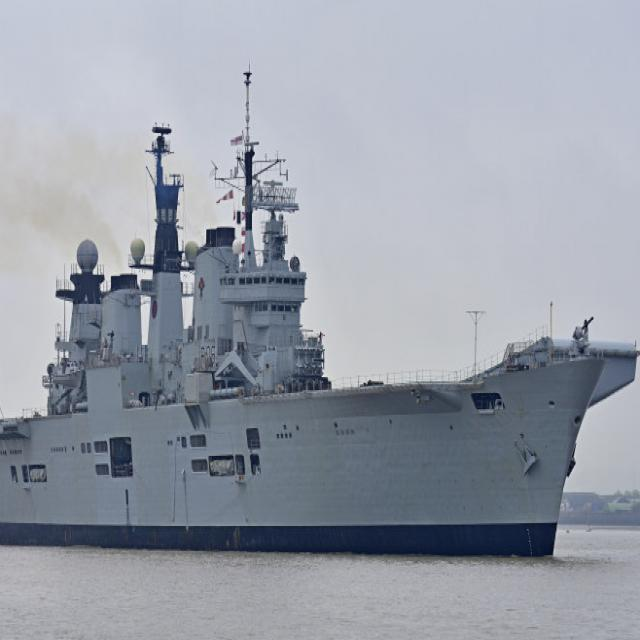Portanaves: (1, 61, 640, 552)
